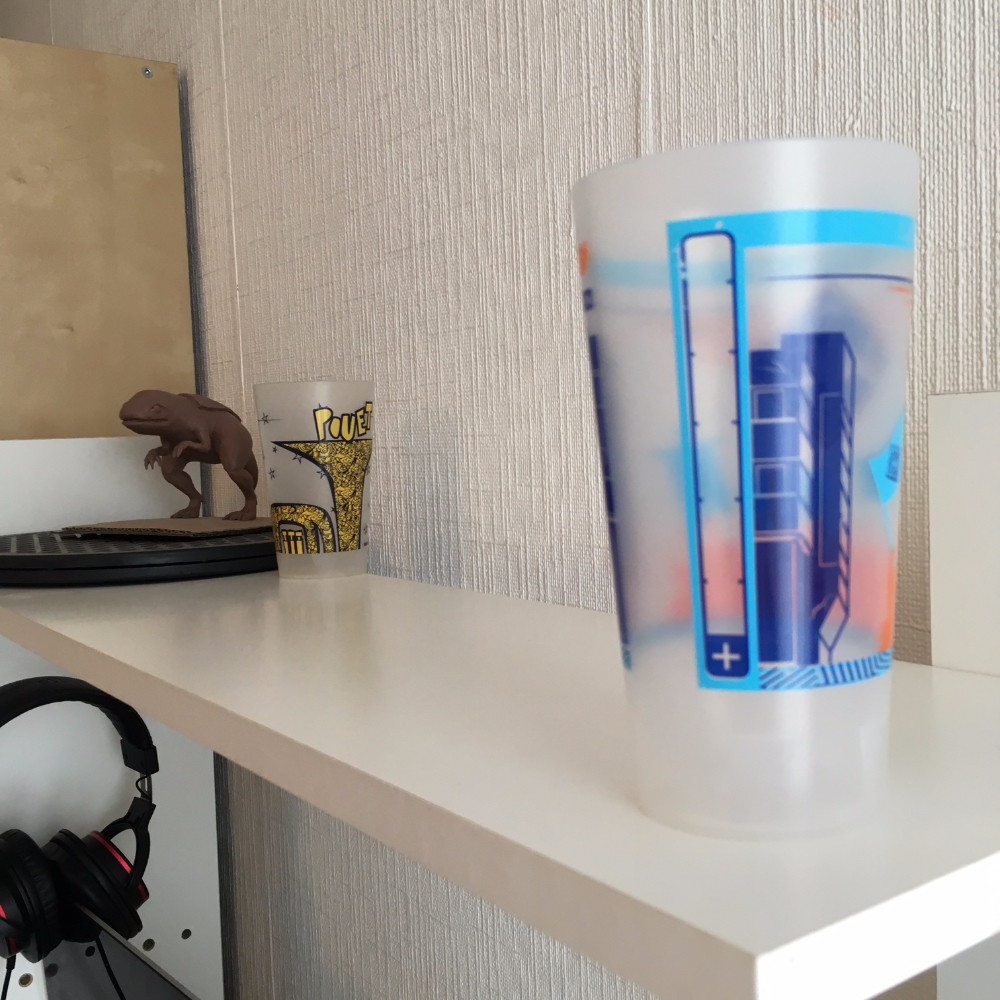ecocup: (571, 138, 922, 841), (253, 380, 377, 580)
